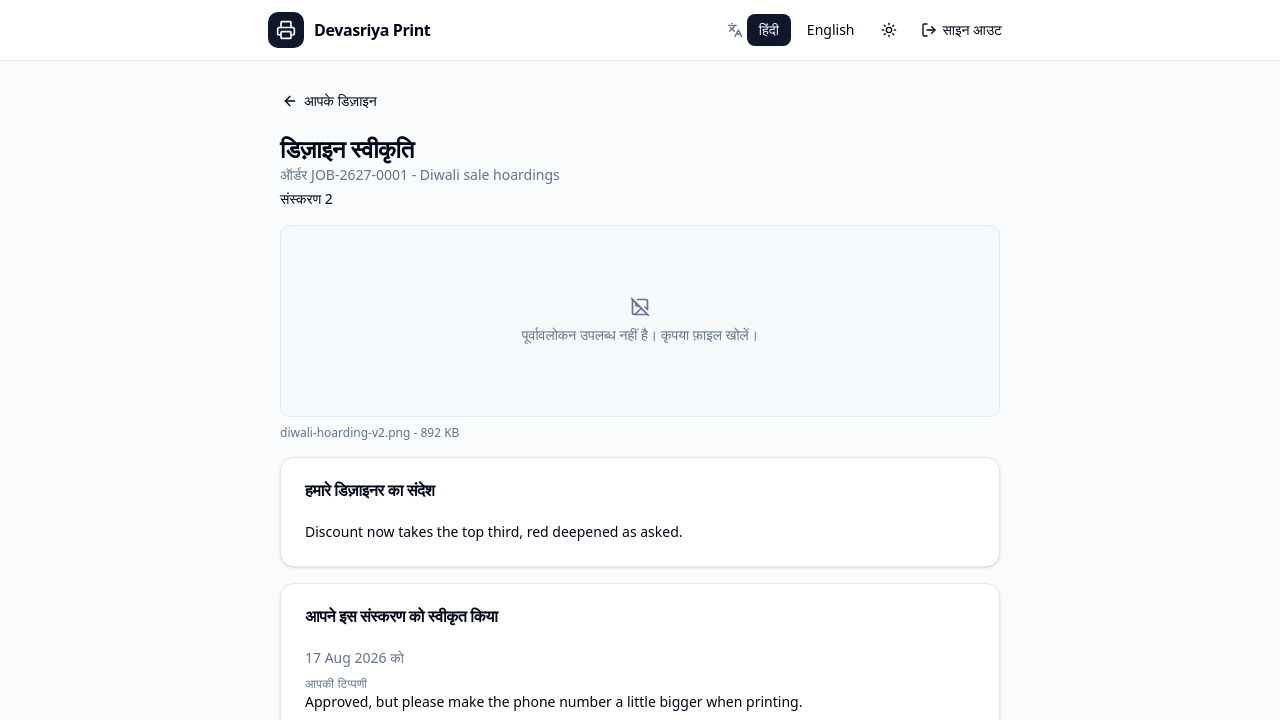
the demo customer portal › answers a design in memory, keeping the comment on an approval
Check: the text "आपने इस संस्करण को स्वीकृत किया" is shown, box x1=305 y1=605 x2=498 y2=627
Check: the text "Approved, but please make the phone number a little bigger when printing." is shown, box x1=305 y1=692 x2=802 y2=711
Step 1. Click the button "English" → click(831, 30), box x1=795 y1=14 x2=866 y2=46
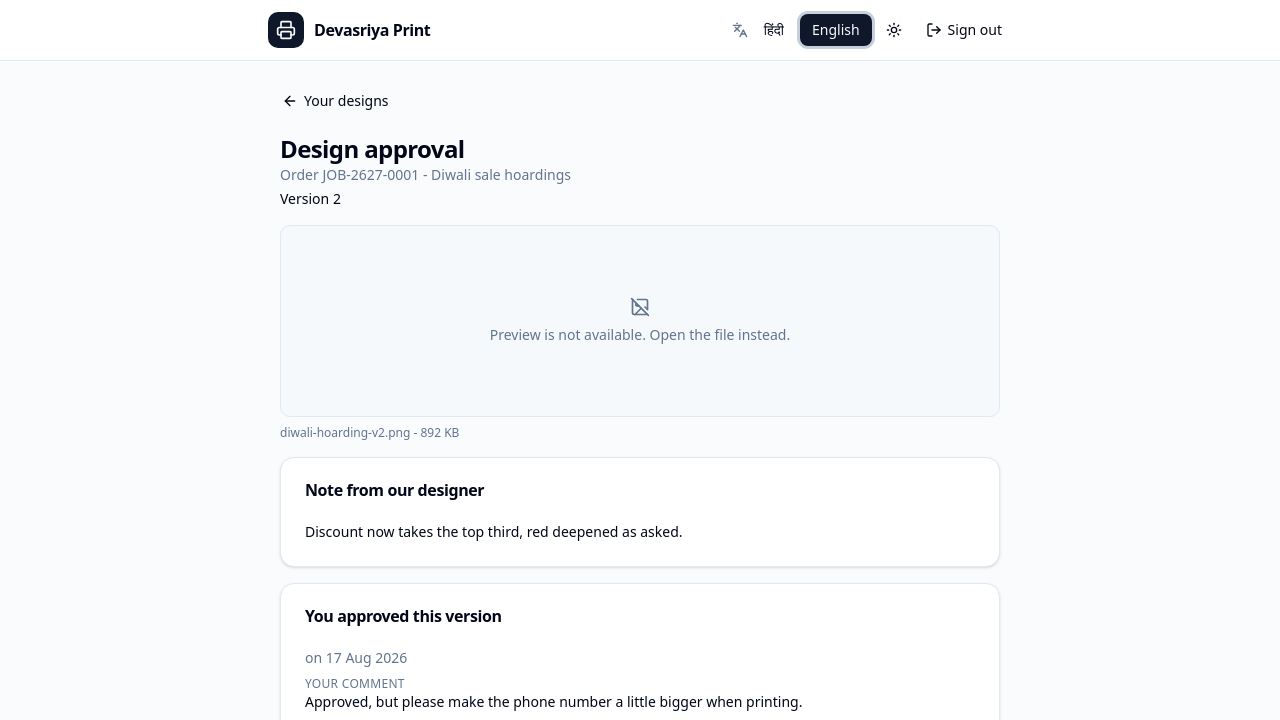
Check: the text "You approved this version" is shown, box x1=305 y1=605 x2=502 y2=627
